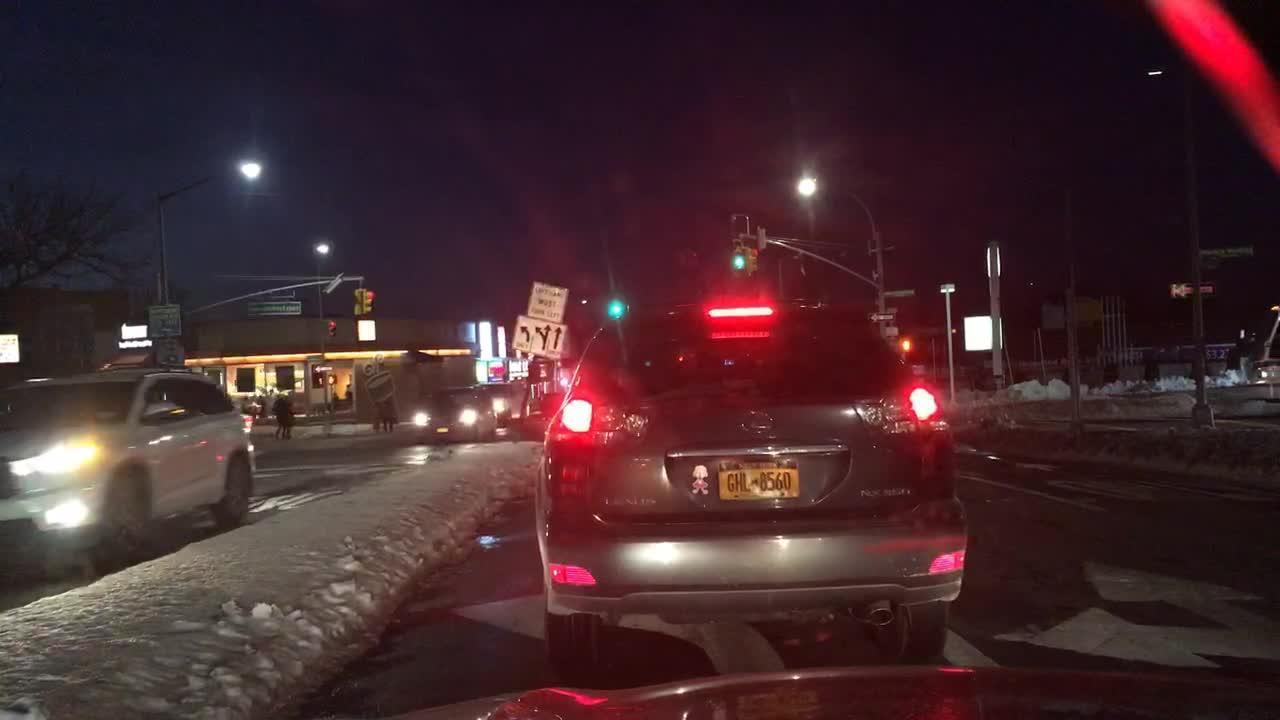lexus: (737, 409, 779, 439)
